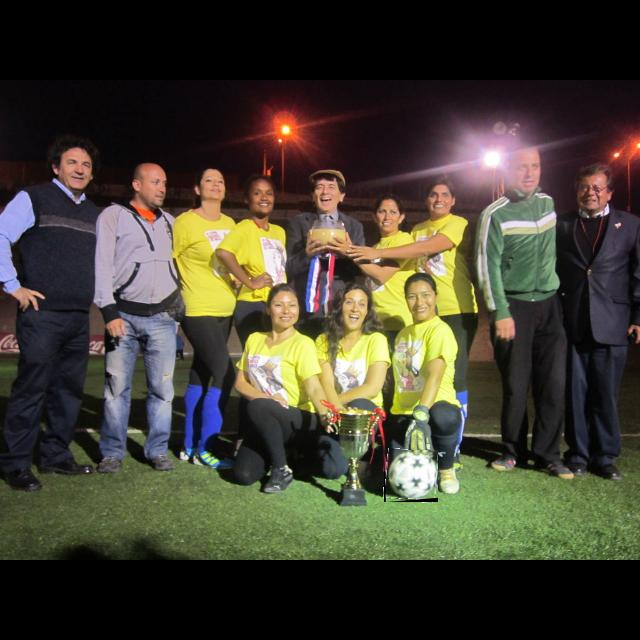Football: (384, 450, 438, 502)
